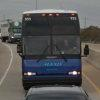Bus: (15, 6, 88, 89)
